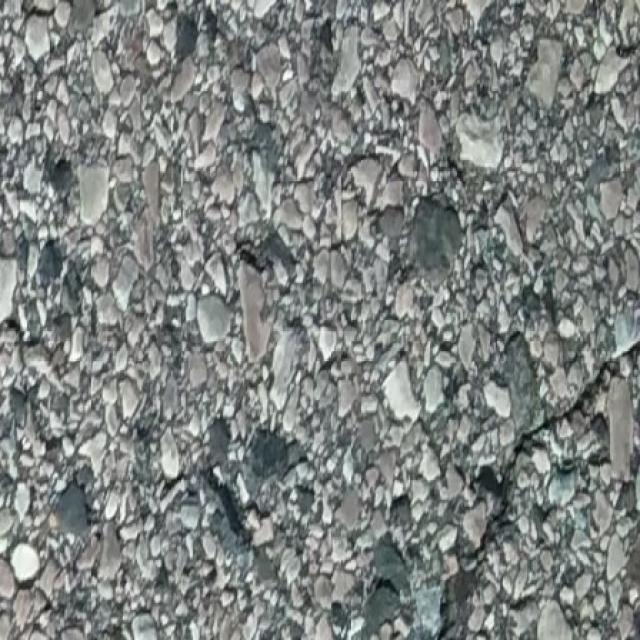Diagonal Crack: (417, 329, 640, 637)
